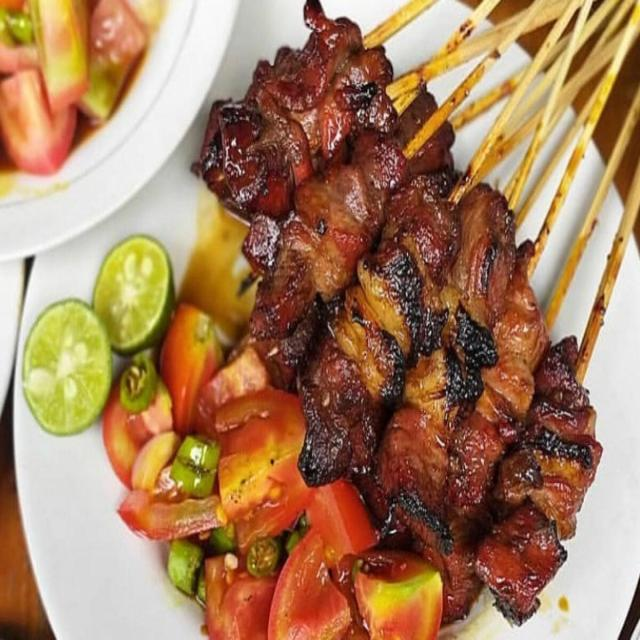Sate: (209, 0, 640, 583)
